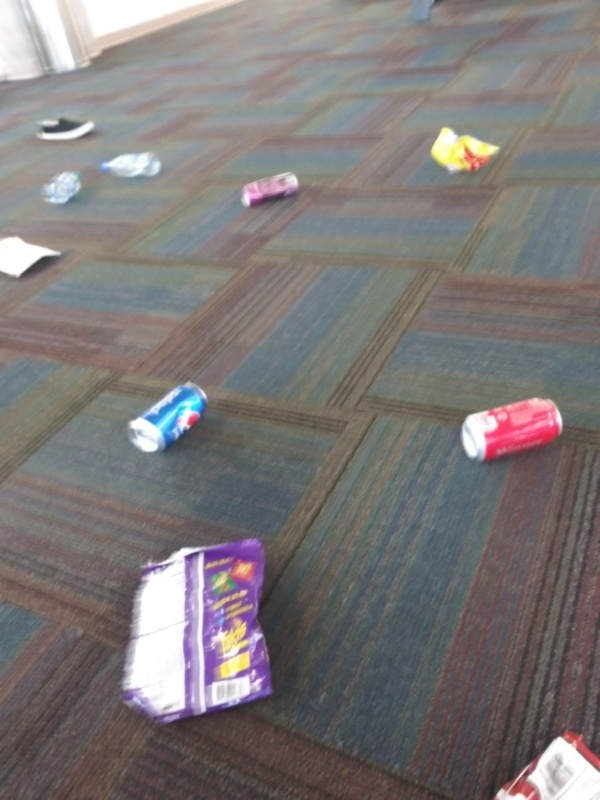bag: (116, 532, 283, 728), (475, 724, 599, 800), (427, 122, 505, 178), (1, 230, 67, 285)
bottle: (97, 148, 165, 182), (41, 168, 86, 208)
can: (457, 394, 567, 464), (122, 375, 210, 458), (233, 169, 305, 211)
